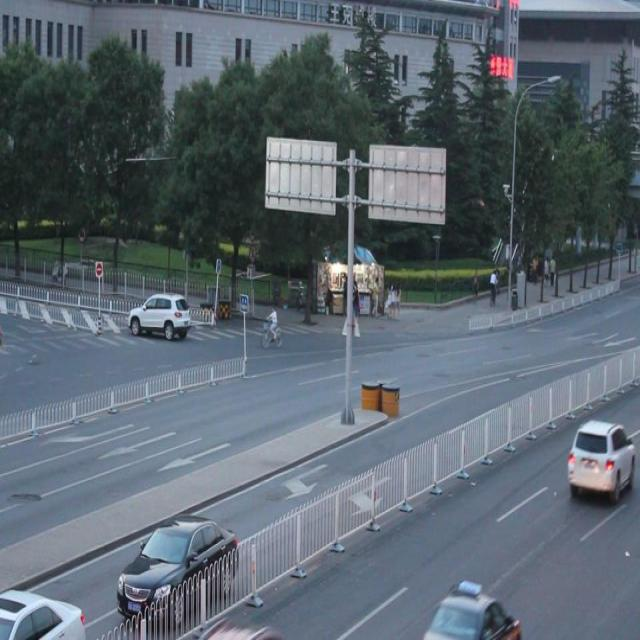car: (117, 512, 240, 622), (565, 416, 640, 499), (419, 583, 516, 640), (0, 580, 85, 640), (128, 292, 190, 342)
